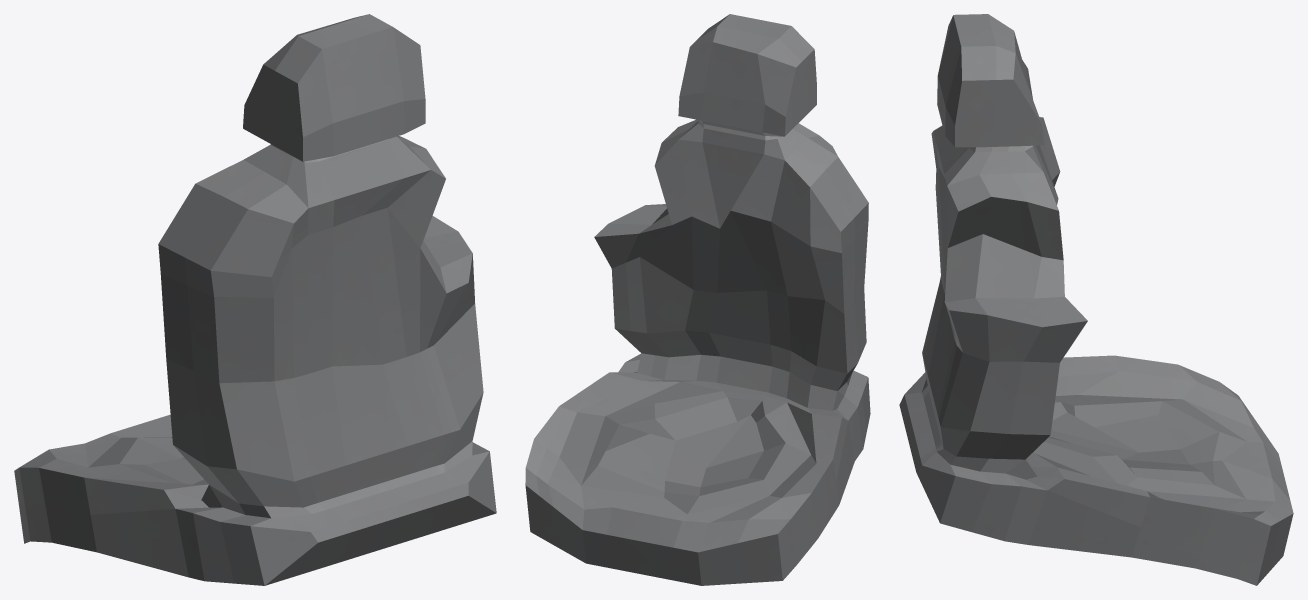
File: car_seat_1.glb
The picture shows the model from 3 angles, left to right: view 1: azimuth 30°, elevation 25°; view 2: azimuth 150°, elevation 25°; view 3: azimuth 270°, elevation 25°; orthographic projection. The views are drawn at different scales.
Visible parts, largest first — view 1: car_seat_1; view 2: car_seat_1; view 3: car_seat_1.
Part boxes in pixels (x1,y1,x2,y2): car_seat_1: (14,14,496,585); car_seat_1: (525,14,870,585); car_seat_1: (899,14,1293,585).
Bounding box in the file's own units: 0.6608 × 1.06 × 0.7427.
1 material, 1 textured.
